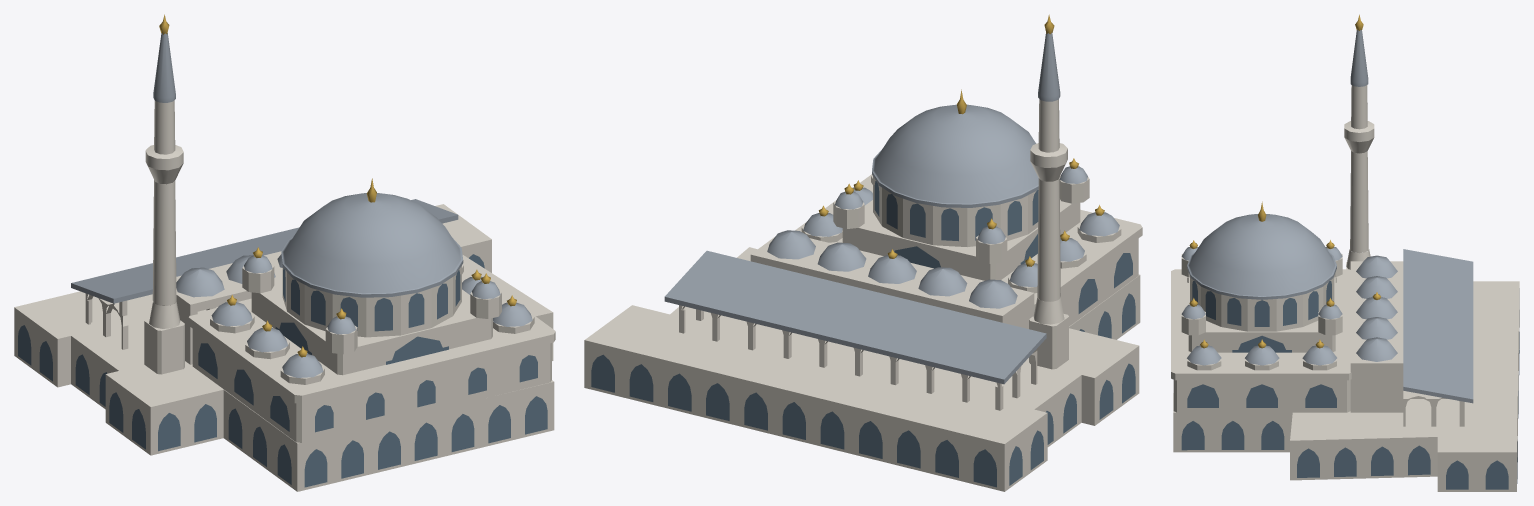
The model's file is istanbul-rustem-pasha-mosque.glb.
The picture shows the model from 3 angles, left to right: view 1: azimuth 30°, elevation 25°; view 2: azimuth 150°, elevation 25°; view 3: azimuth 270°, elevation 25°; orthographic projection. The views are drawn at different scales.
Visible parts, largest first — view 1: Rüstem Pasha Mosque; view 2: Rüstem Pasha Mosque; view 3: Rüstem Pasha Mosque.
Part boxes in pixels (x1,y1,x2,y2): Rüstem Pasha Mosque: [14, 14, 555, 491]; Rüstem Pasha Mosque: [584, 14, 1142, 491]; Rüstem Pasha Mosque: [1171, 14, 1519, 491].
Bounding box in the file's own units: 46.29 × 41.3 × 39.82.
